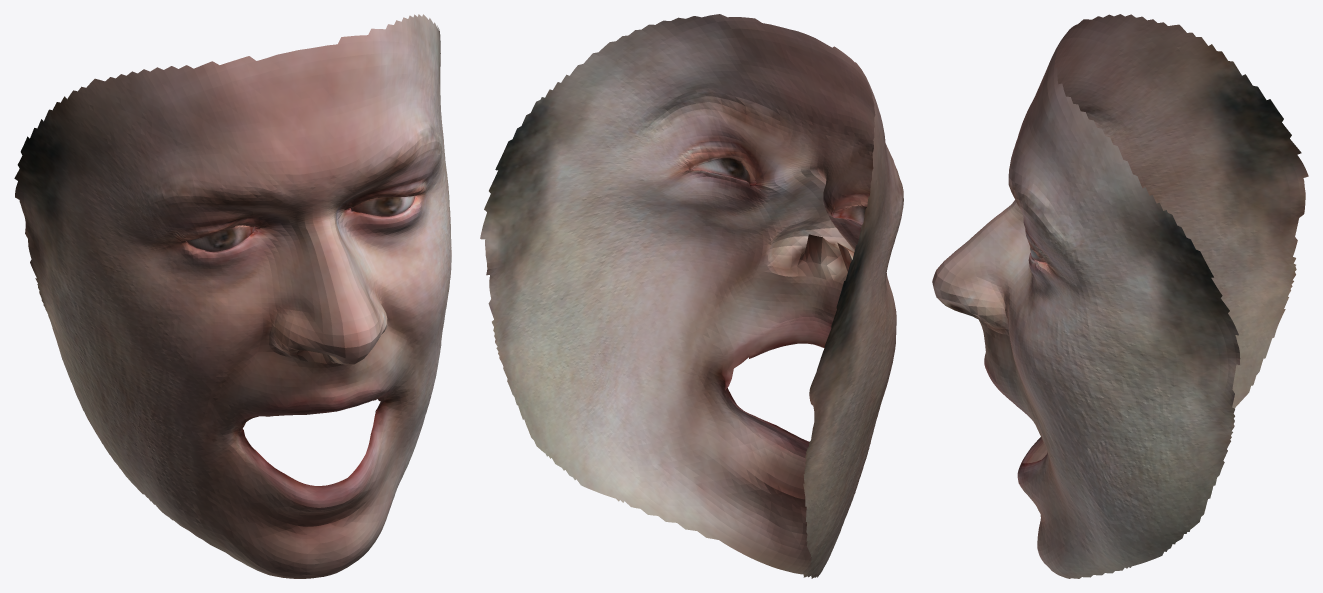
Rendered from fear1_mesh.obj.
3 renders of one model, left to right at view 1: azimuth 30°, elevation 25°; view 2: azimuth 150°, elevation 25°; view 3: azimuth 270°, elevation 25°, orthographic. The views are drawn at different scales.
Size of the model in its own units: 1.37 by 1.85 by 1.23.
